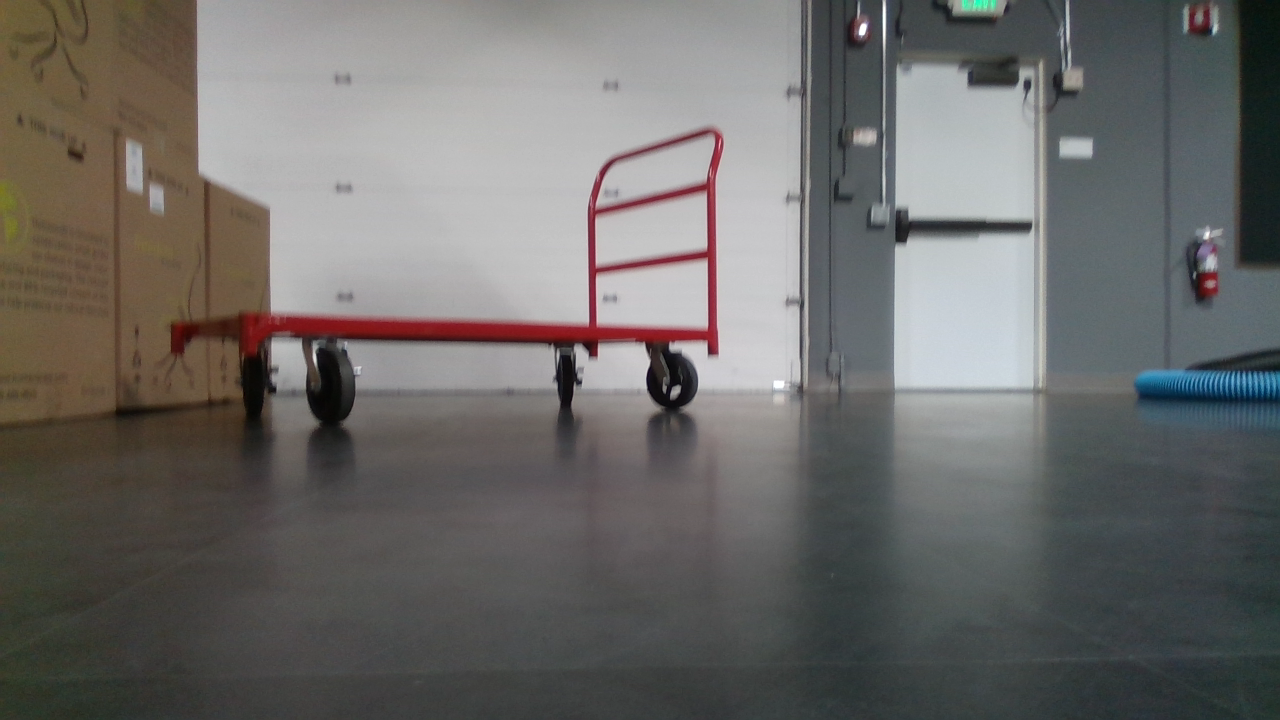Dolly: (164, 120, 738, 432)
Wheel: (304, 343, 358, 425), (645, 350, 700, 409), (238, 347, 271, 414), (555, 352, 580, 407)
